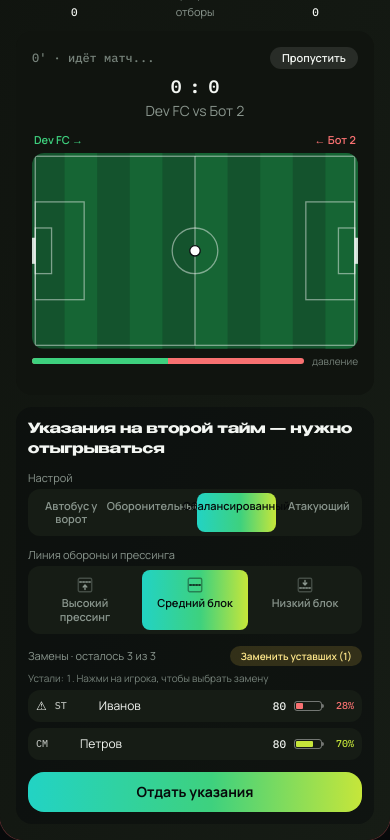
it: LiveMatchCenter › the bench opens under the player tapped, the same position first
(page scrolled)
Click the button "CM Петров 80 70%" at (101, 743), box [28,728,362,760]
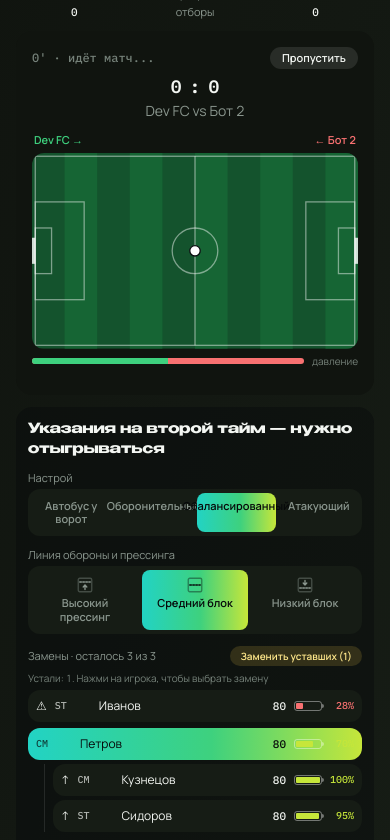
Expected: the button "↑ CM Кузнецов 80 100%" is shown, [53,764,362,796]
Expected: the button "↑ ST Сидоров 80 95%" is shown, [53,800,362,832]
